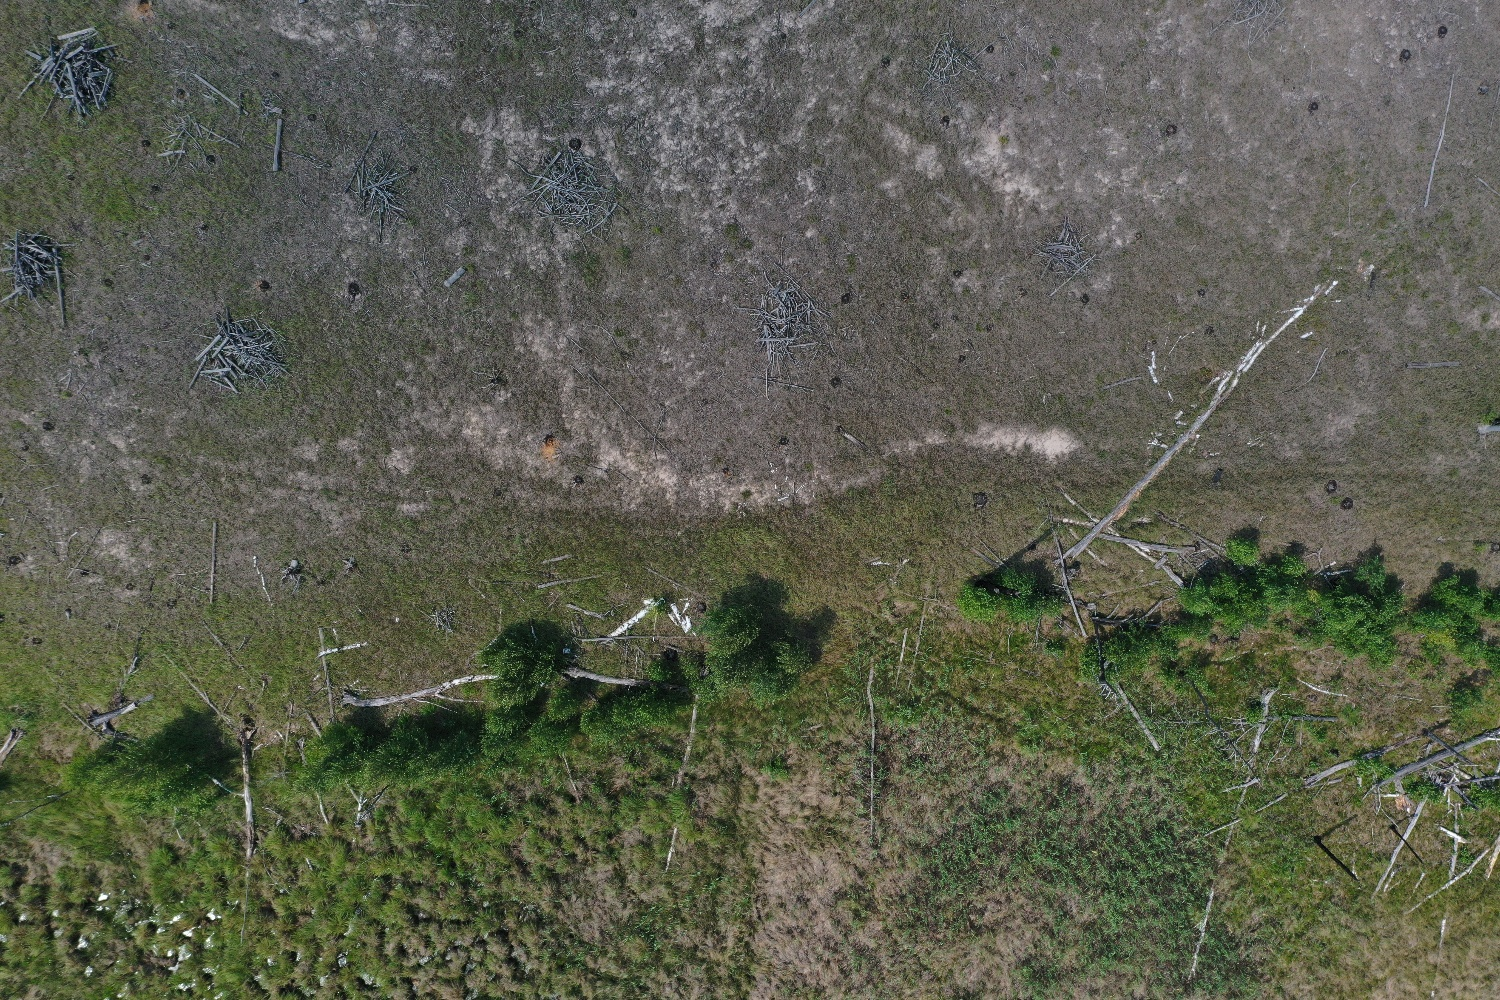branches: (25, 25, 133, 122), (187, 306, 292, 392), (749, 271, 834, 367), (530, 150, 621, 230), (3, 230, 73, 325), (352, 151, 414, 220), (1033, 217, 1092, 275), (927, 35, 981, 80), (427, 609, 458, 633)
